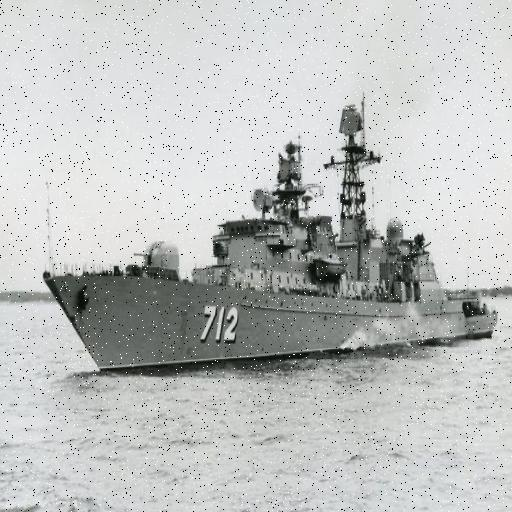Fragata: (43, 93, 502, 384)
